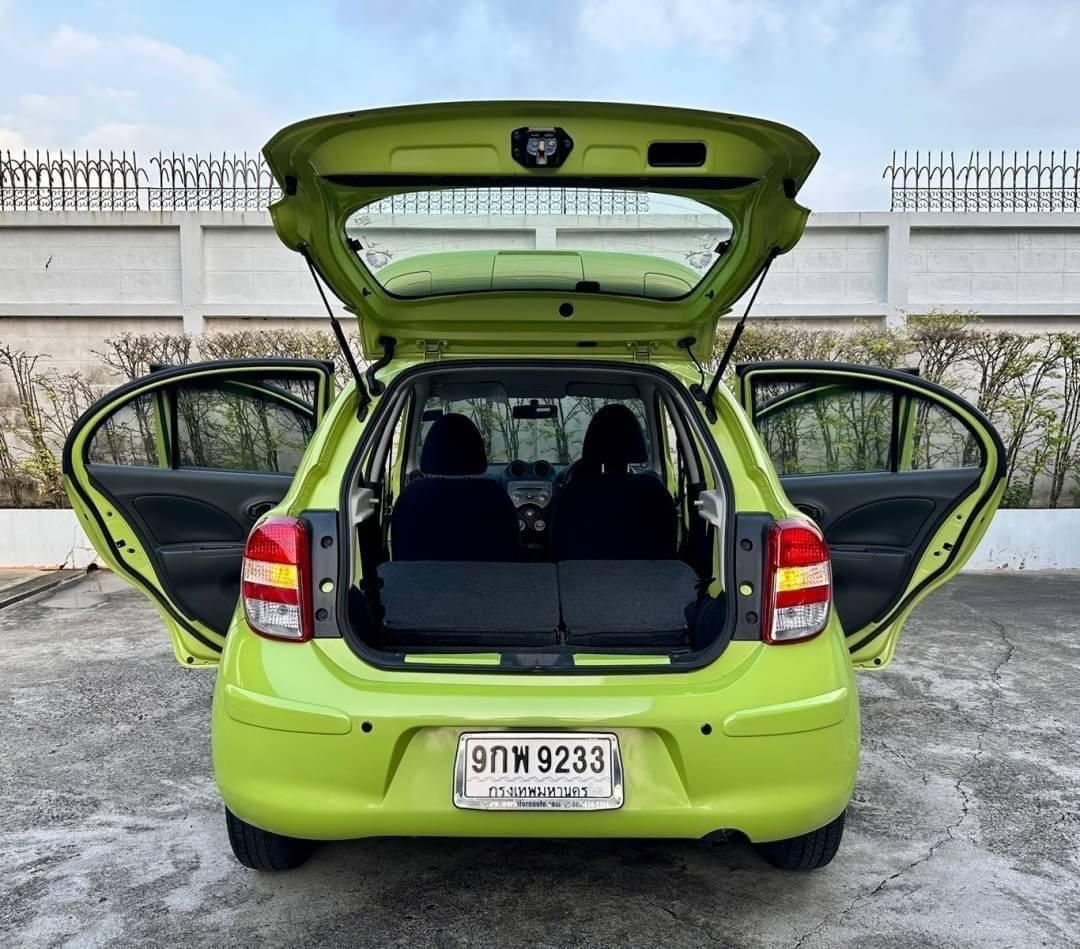license-plate: (449, 729, 629, 816)
